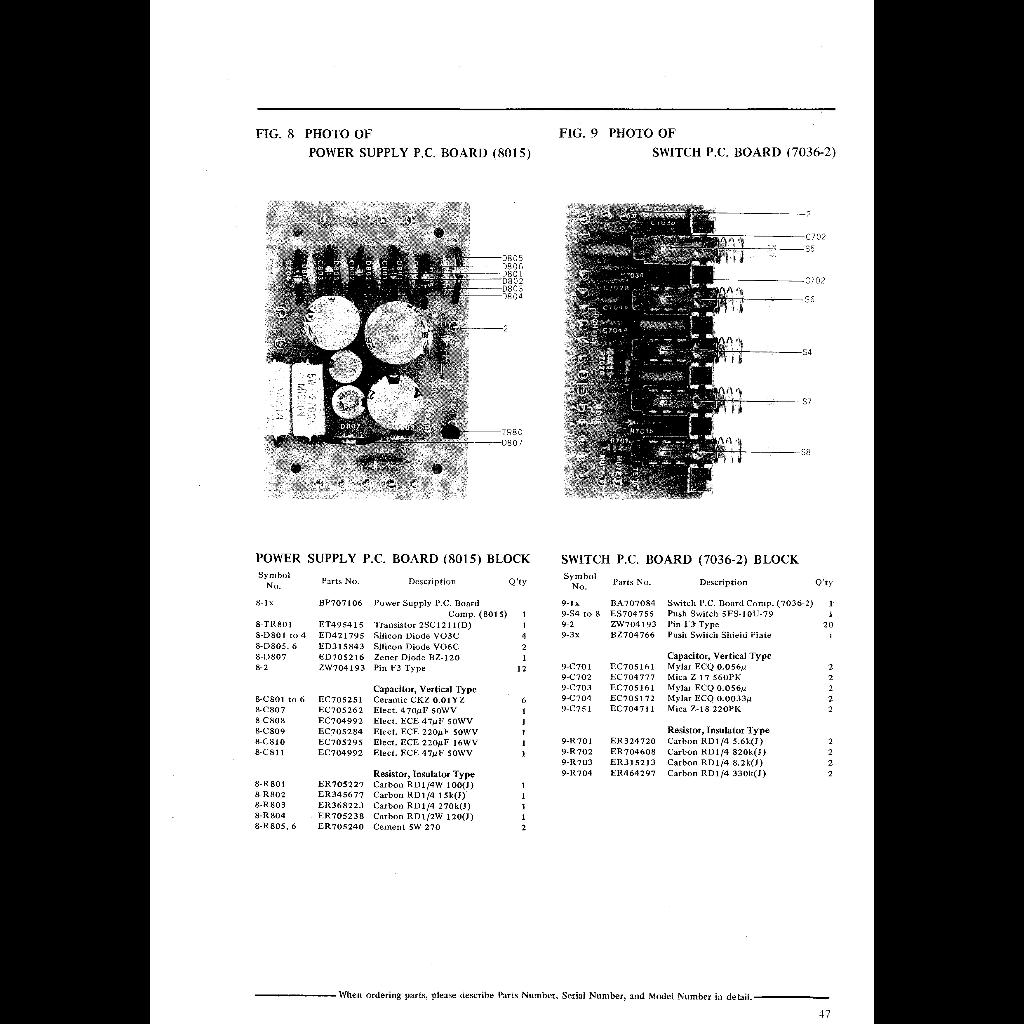Board: (562, 196, 826, 506), (265, 199, 529, 505)
Table: (255, 548, 535, 846), (556, 552, 844, 790)
